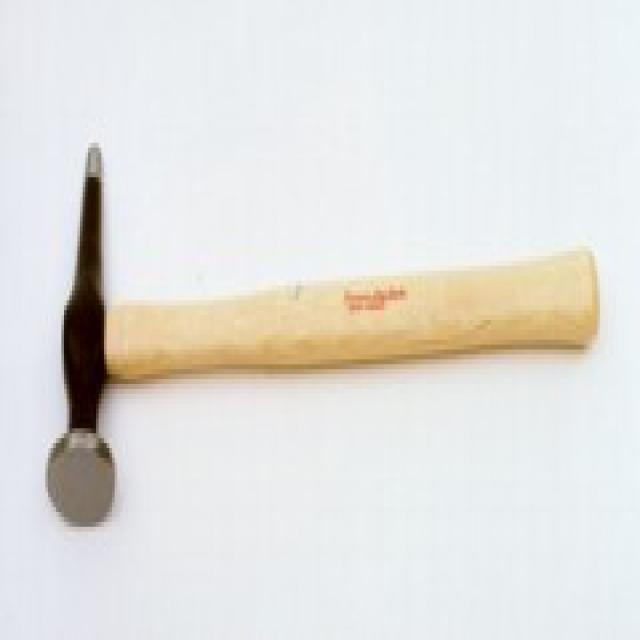hammer: (46, 110, 640, 540)
